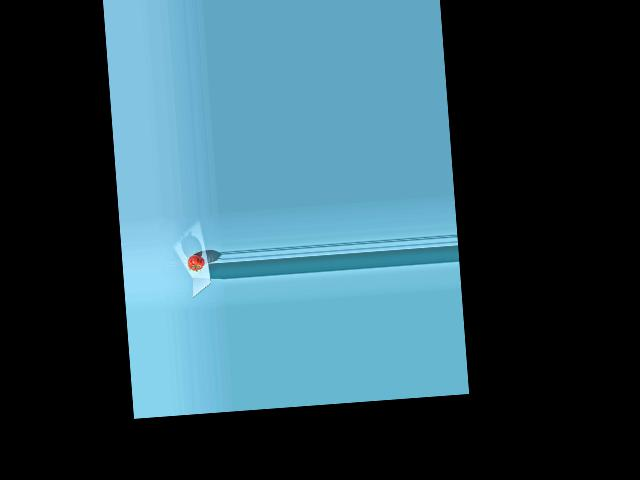tomato: (187, 254, 205, 271)
